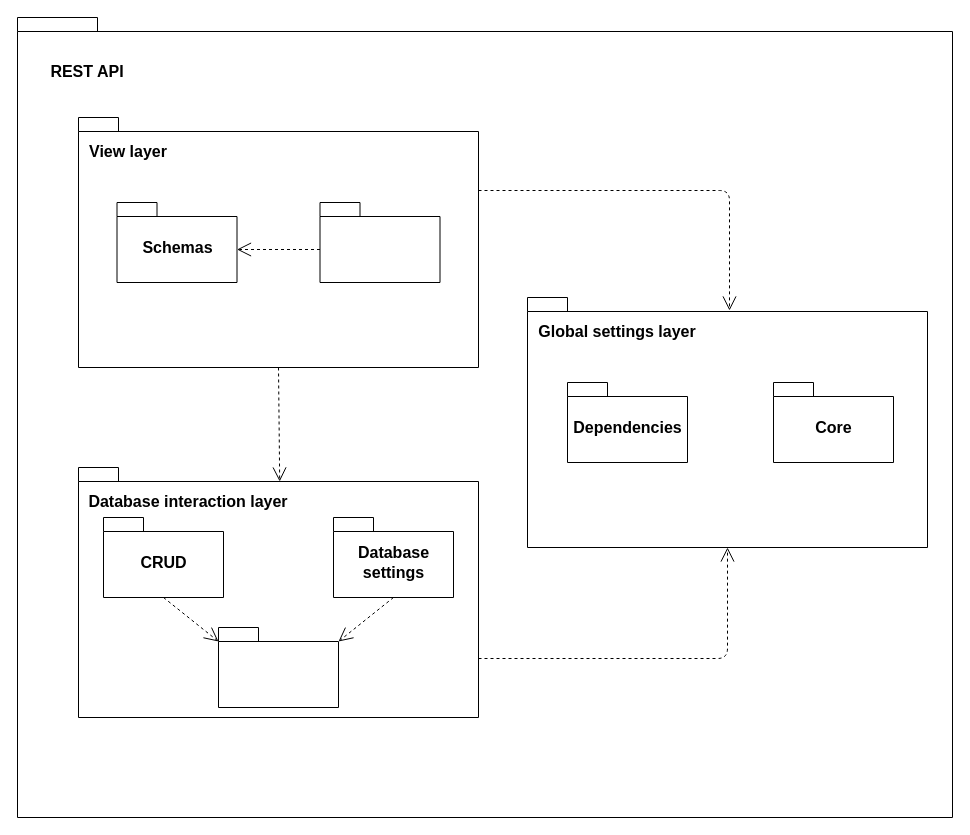
The diagram is 970 pixels wide and 835 high, and some of its shapes have lost their labels. Each missing label, with the centre of its shape:
API versions: (379,242)
Models: (278,667)
